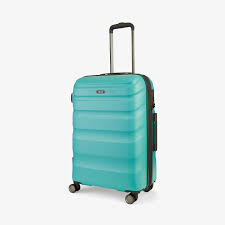suitcase: (65, 23, 159, 203)
